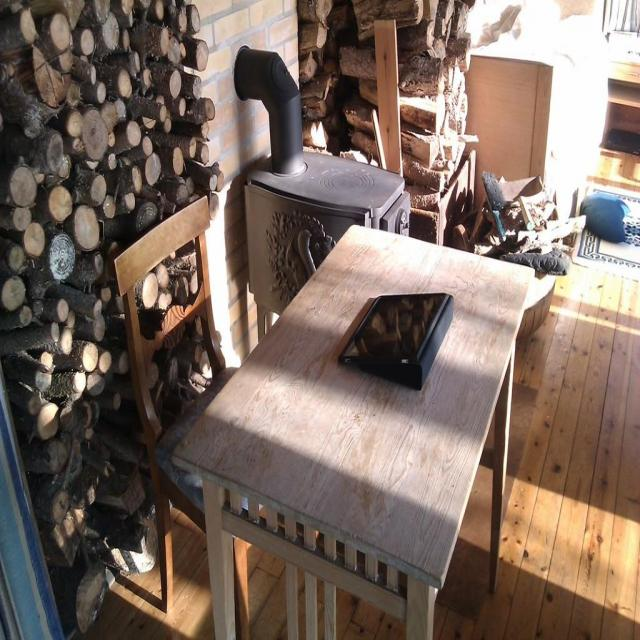table: (136, 210, 560, 637)
